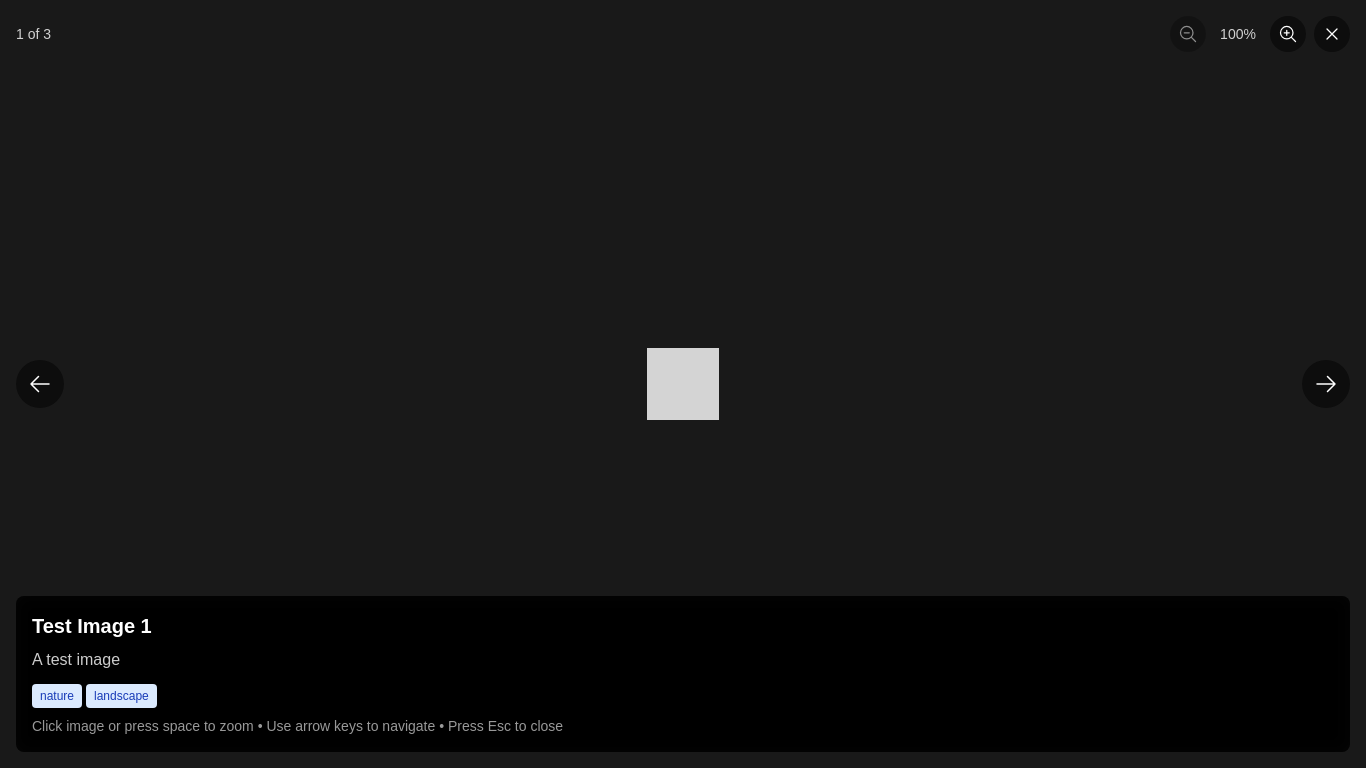
ImageViewer › Zoom Functionality › handles zoom out button click
The width and height of the screenshot is (1366, 768).
// First zoom in to enable zoom out
What coordinates should you click on to do the following:
click the button named "Zoom in"
I would click on:
 (1288, 34)
Its box is [1270,16,1306,52].
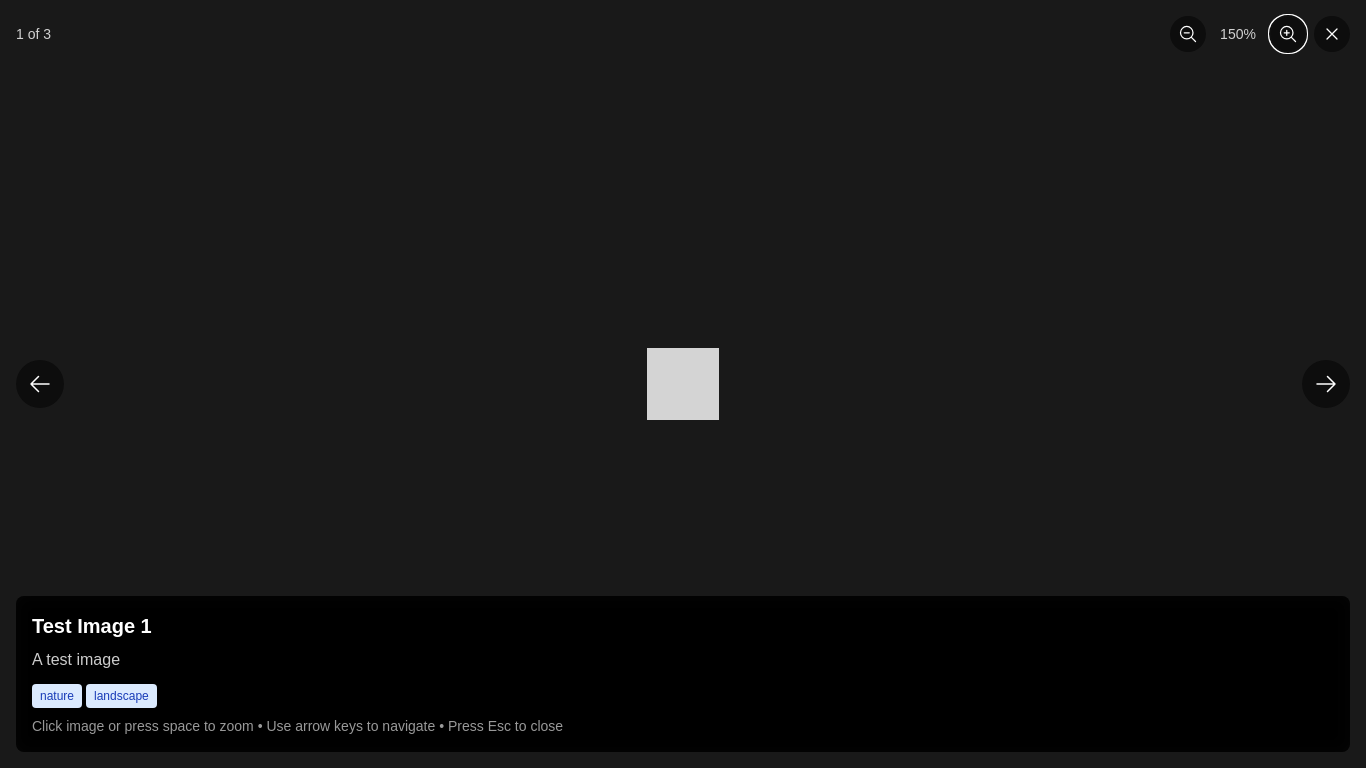
What coordinates should you click on to do the following:
click the button named "Zoom out"
I would click on:
 (1188, 34)
Its box is [1170,16,1206,52].
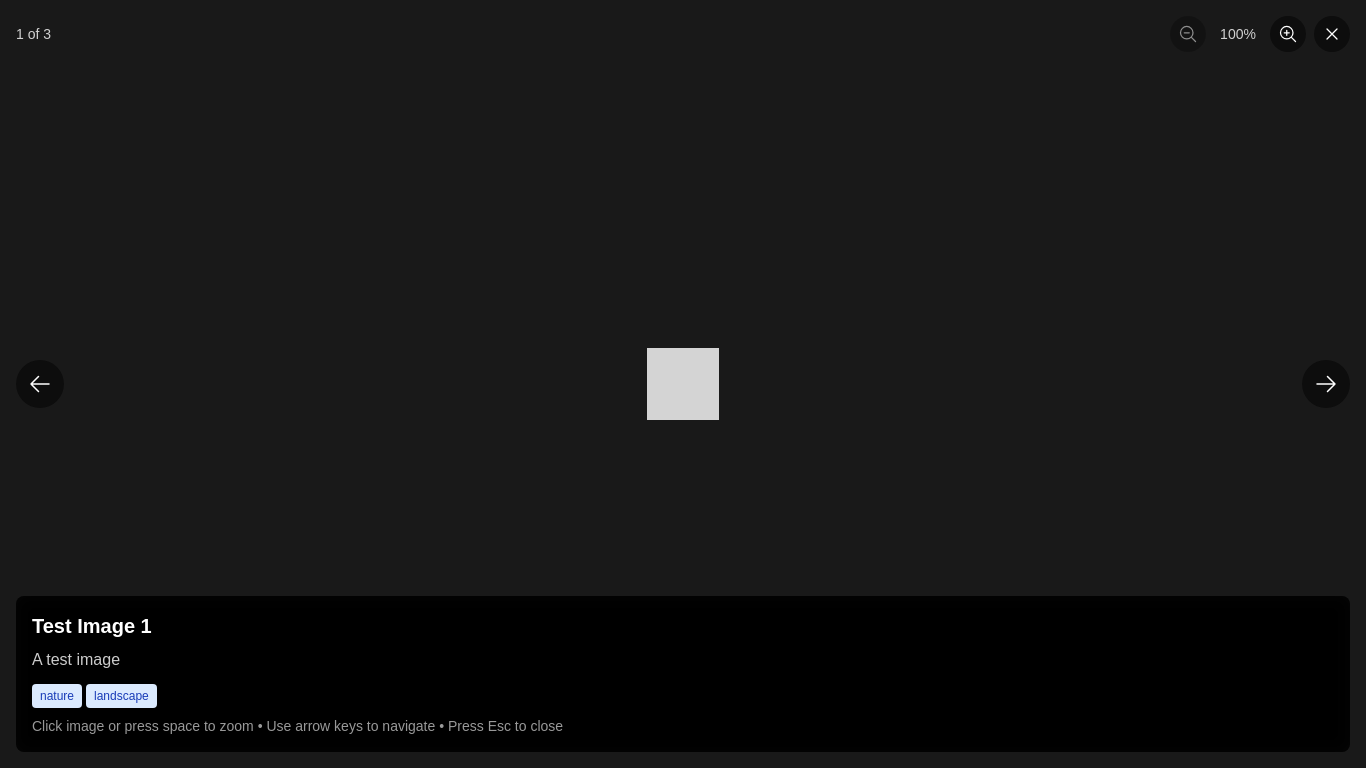
Expected: the text "100%" is shown, [1220,26,1256,42]
